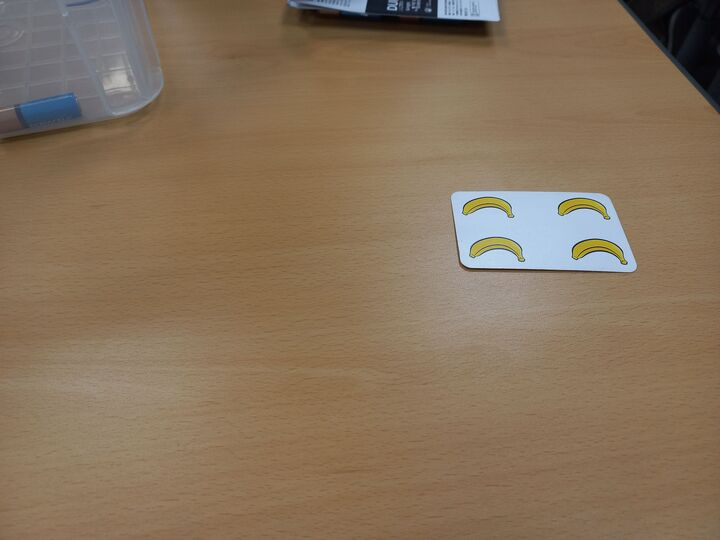banana4: (451, 191, 640, 276)
